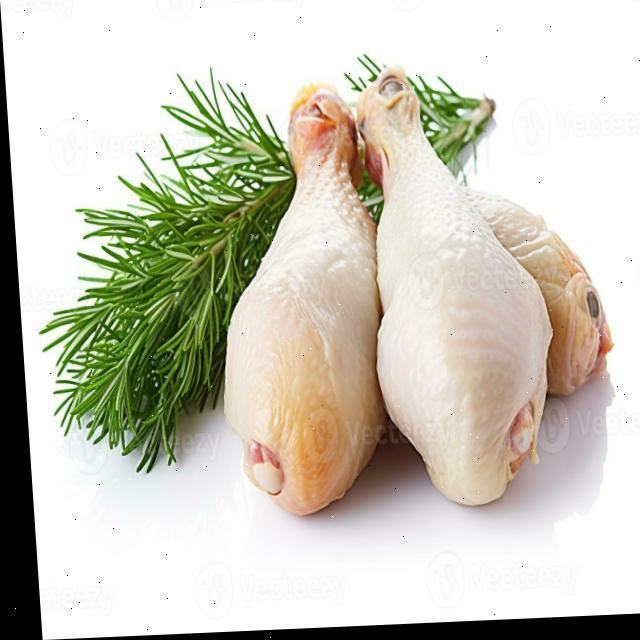leg: (353, 70, 544, 512), (215, 86, 388, 503), (456, 171, 614, 418)
